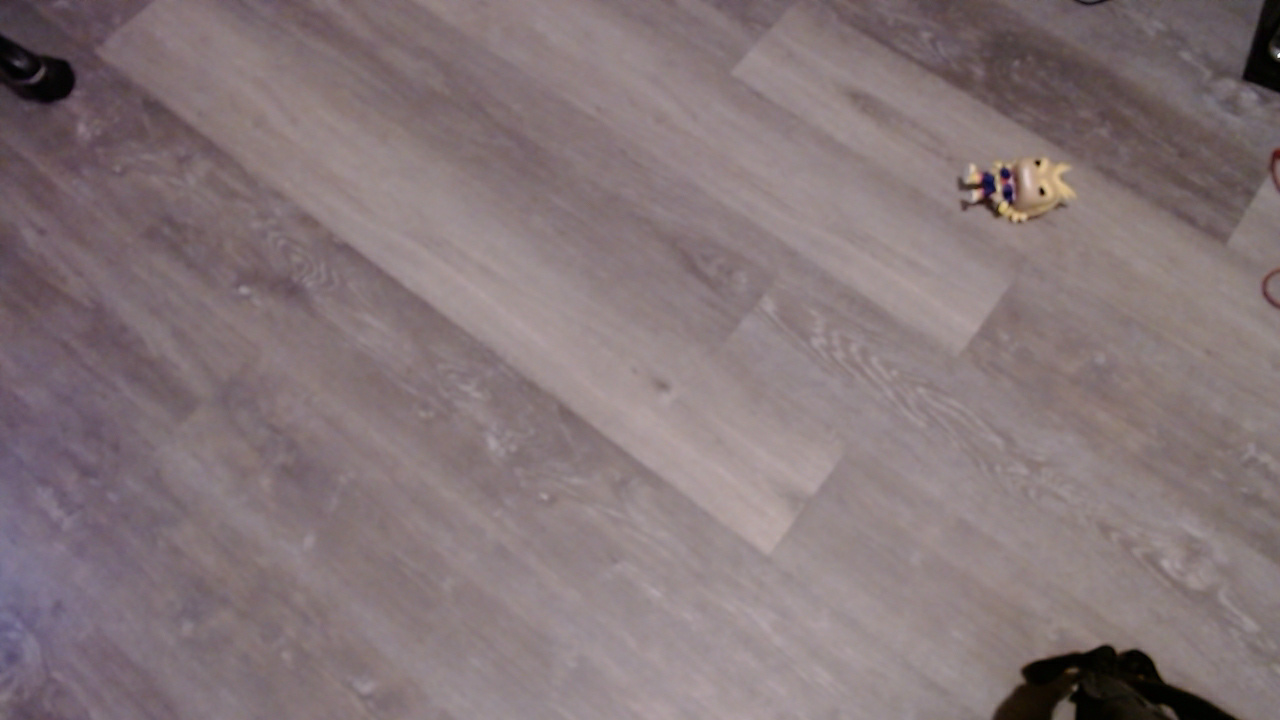all_might: (962, 159, 1090, 239)
